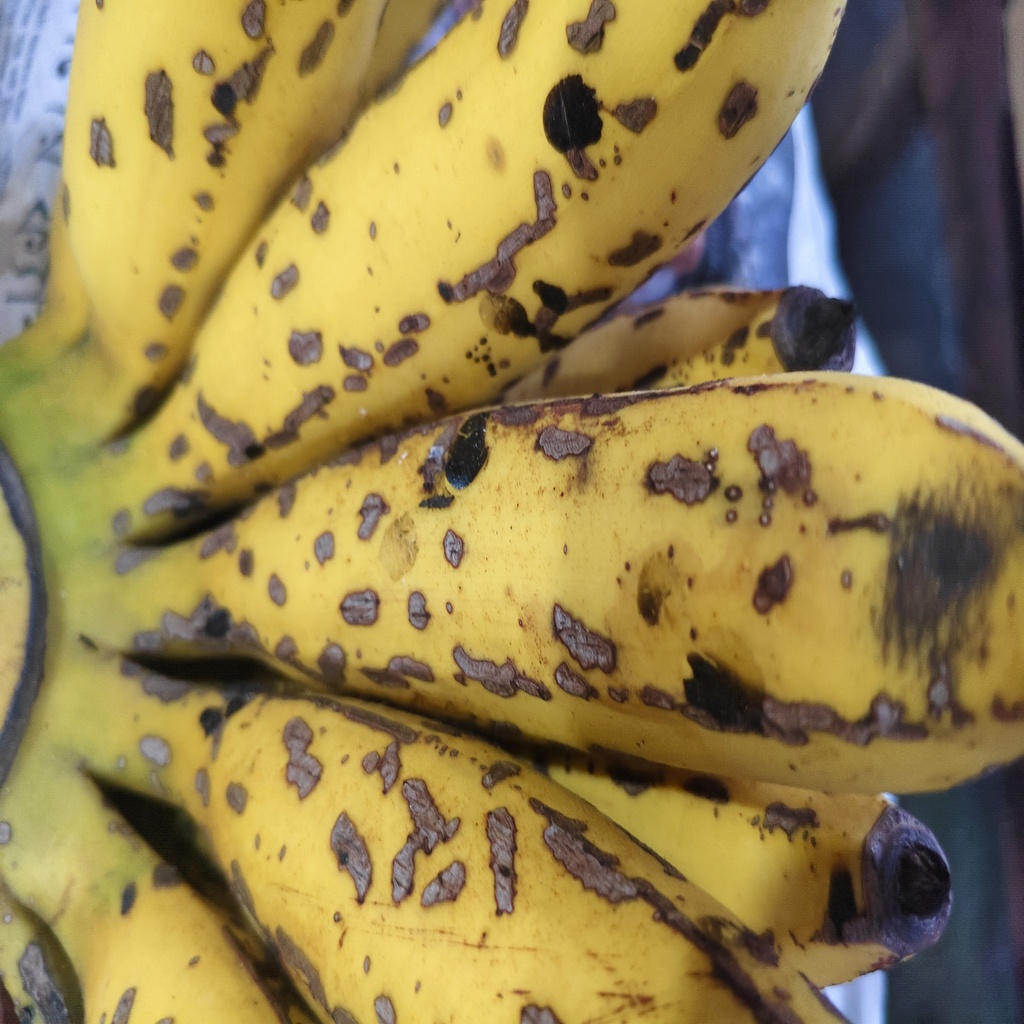unhealthy: (231, 371, 1022, 792), (192, 1, 844, 425)
